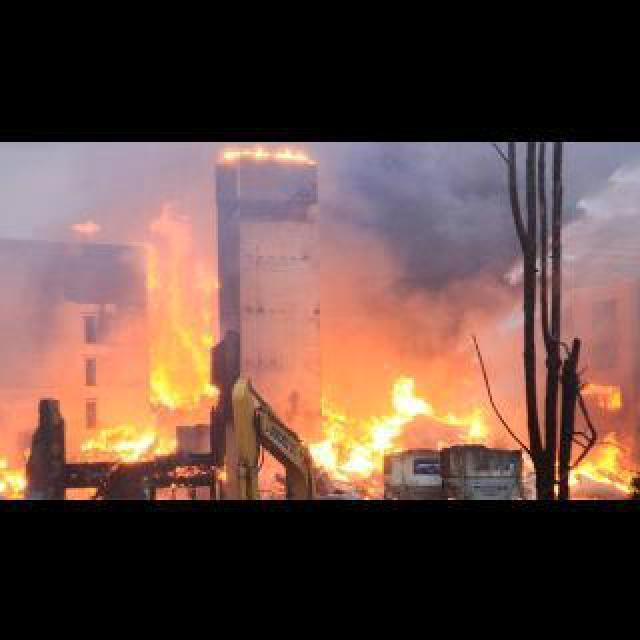helmet: (296, 376, 484, 490), (146, 205, 225, 415), (84, 421, 182, 468), (568, 426, 630, 478), (212, 144, 328, 164), (572, 370, 626, 410)
no_helmet: (316, 144, 640, 351)
